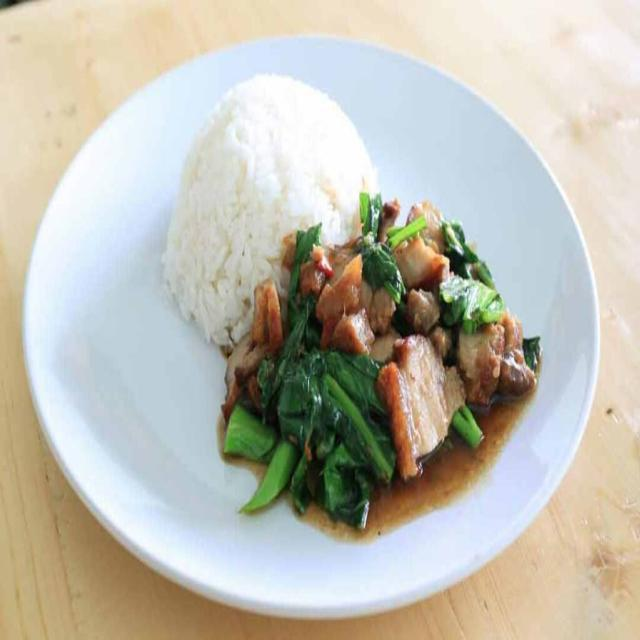cac loai rau cu: (220, 341, 380, 536), (438, 216, 510, 317), (357, 193, 425, 293), (283, 224, 314, 327), (452, 407, 486, 449)
com: (167, 71, 380, 344)
com chien cai xoan: (152, 69, 542, 535)
thit heo: (380, 334, 467, 484), (301, 247, 396, 352), (222, 286, 286, 408), (458, 317, 536, 404), (409, 194, 446, 250), (396, 245, 450, 282), (379, 198, 400, 246)
